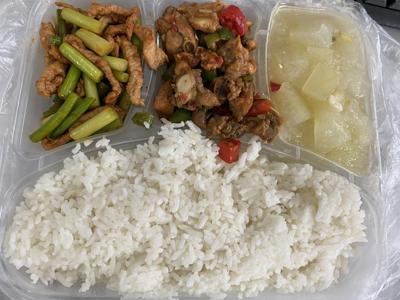dg: (267, 5, 381, 172)
rice: (29, 154, 376, 296)
st: (36, 1, 158, 137)
